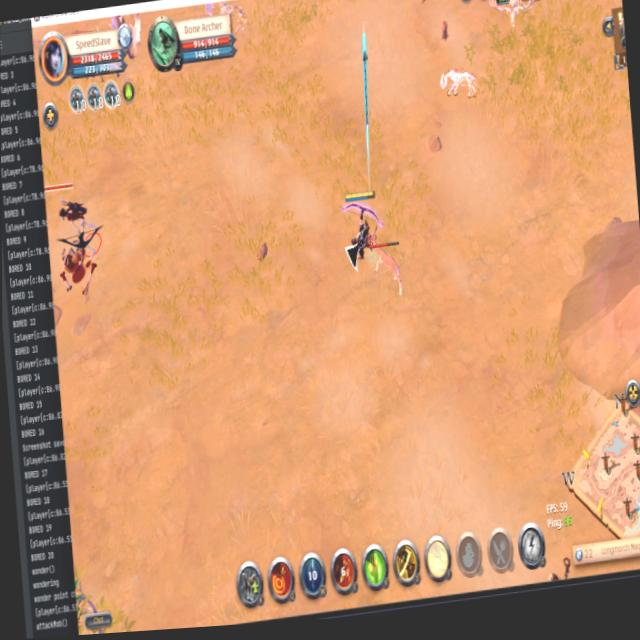ore: (43, 170, 104, 277), (365, 229, 406, 304)
red: (340, 182, 385, 273)
